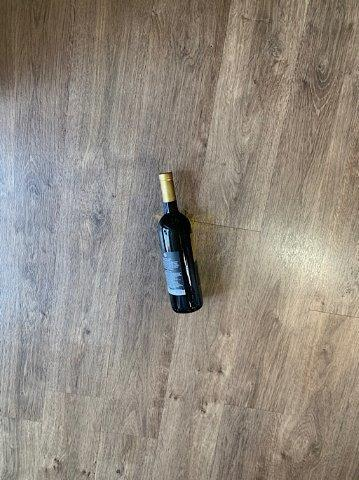botolkaca: (156, 173, 204, 313)
